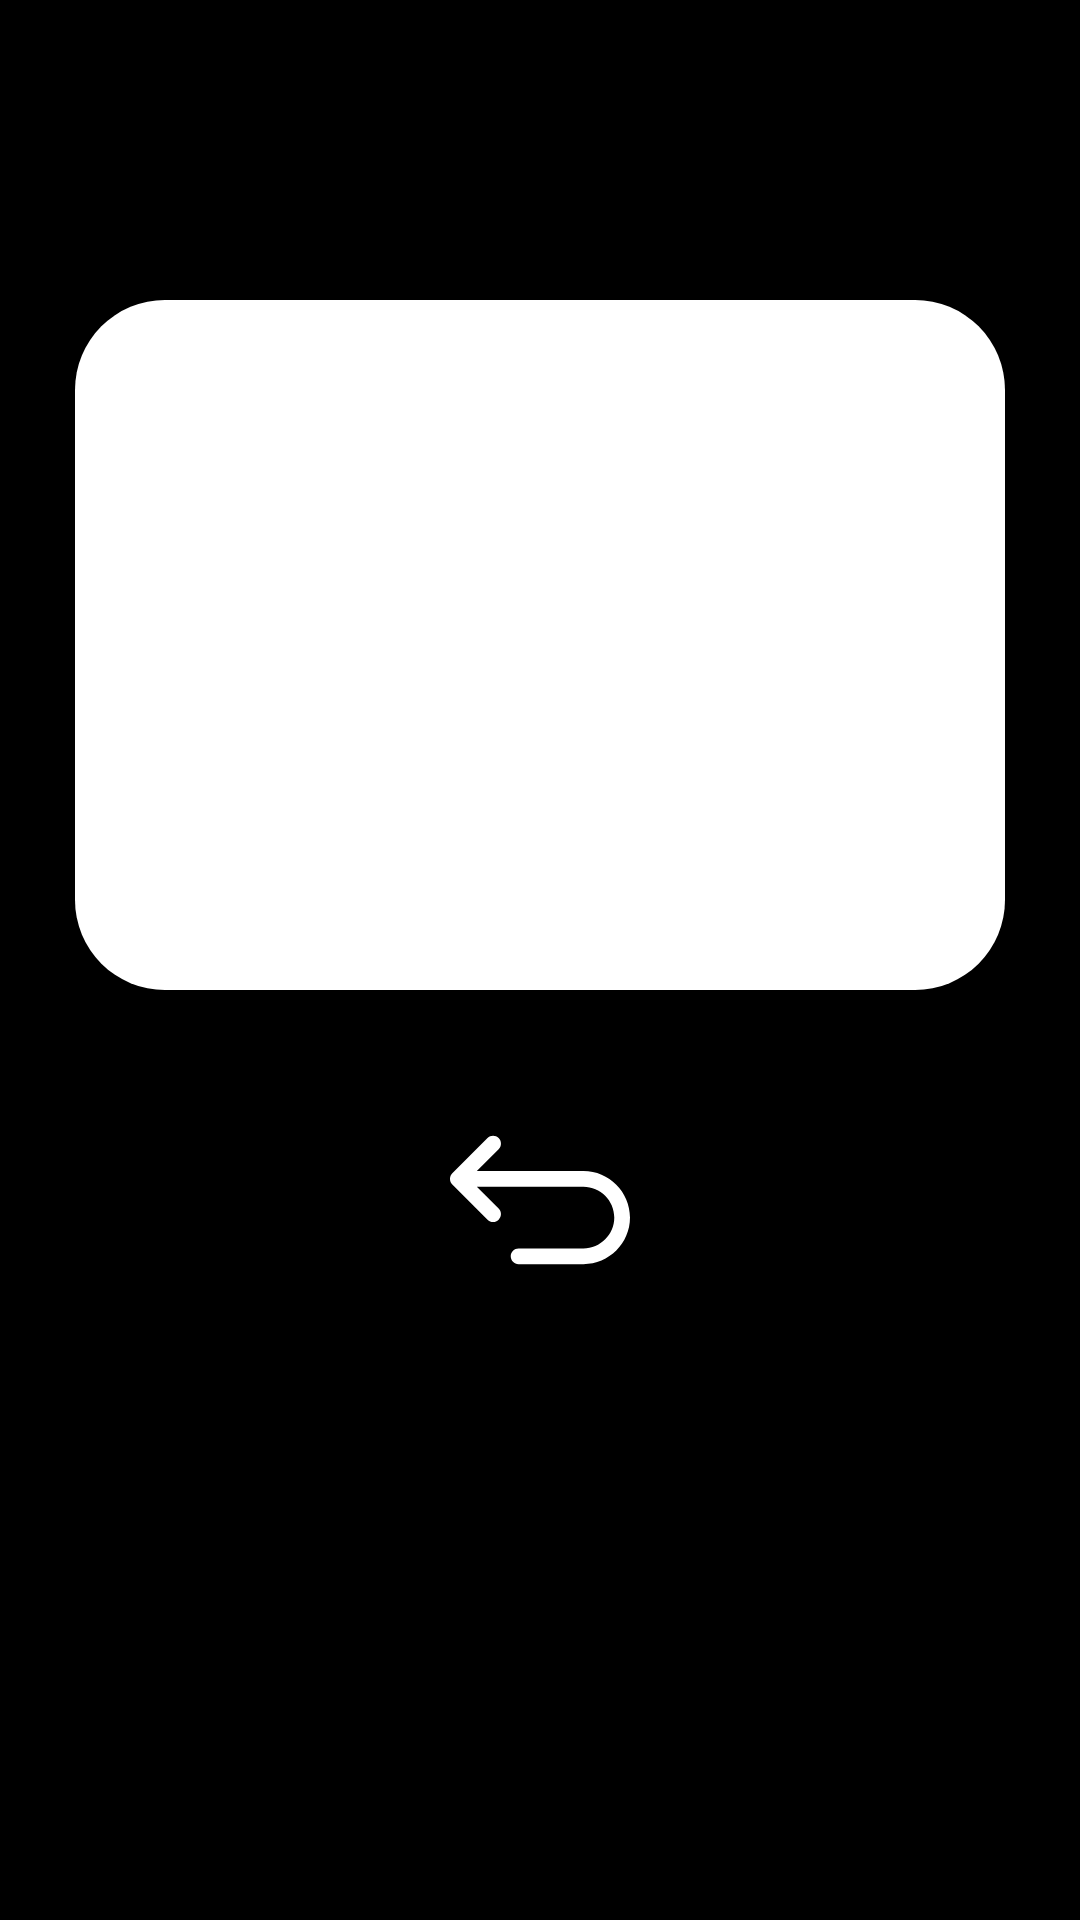

Named icons in this screenshot (1080*1920) and their bounding boxes, (x1, y1, x2, y2):
resource return: (450, 1135, 630, 1265)
